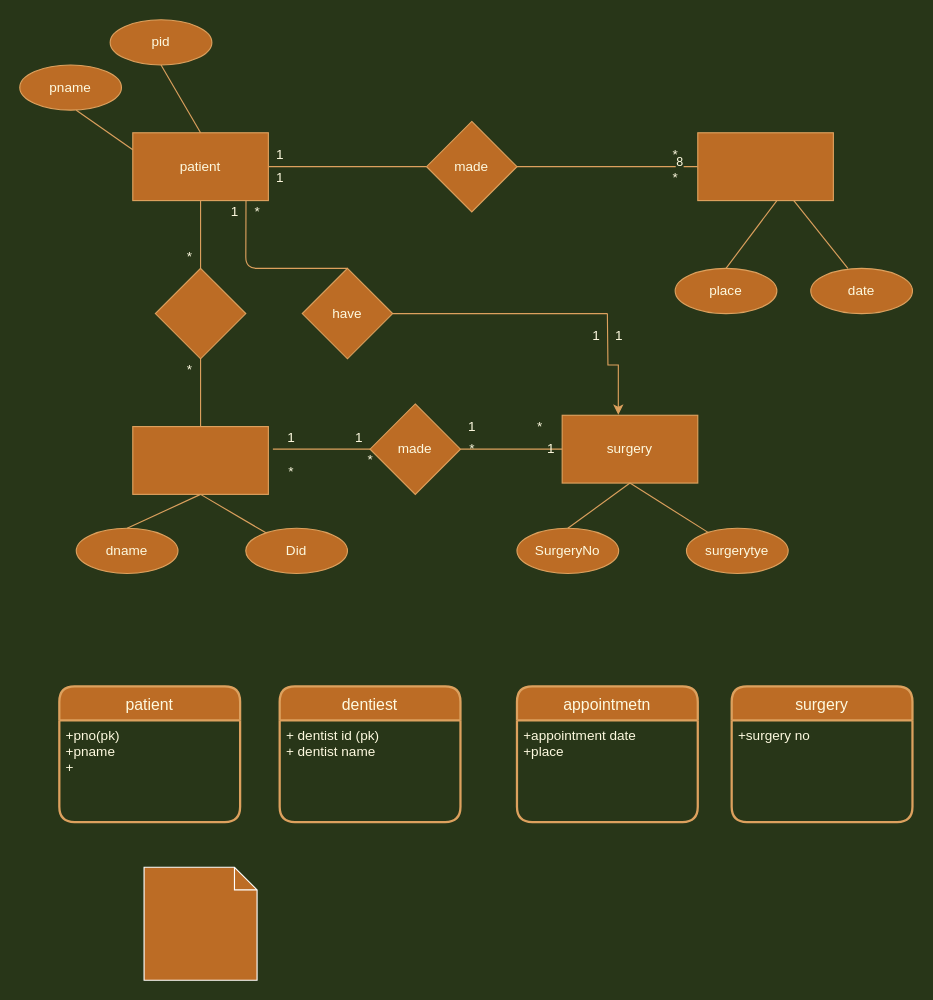
This 933x1000 diagram has some shape labels left out. The shapes that lost their labels are listed below. From the top down, each one's centre as x and y in pixels, then its label:
At pixel 765 166: "appointment".
At pixel 200 313: "serve".
At pixel 200 459: "dentist".
At pixel 200 923: "Note".
